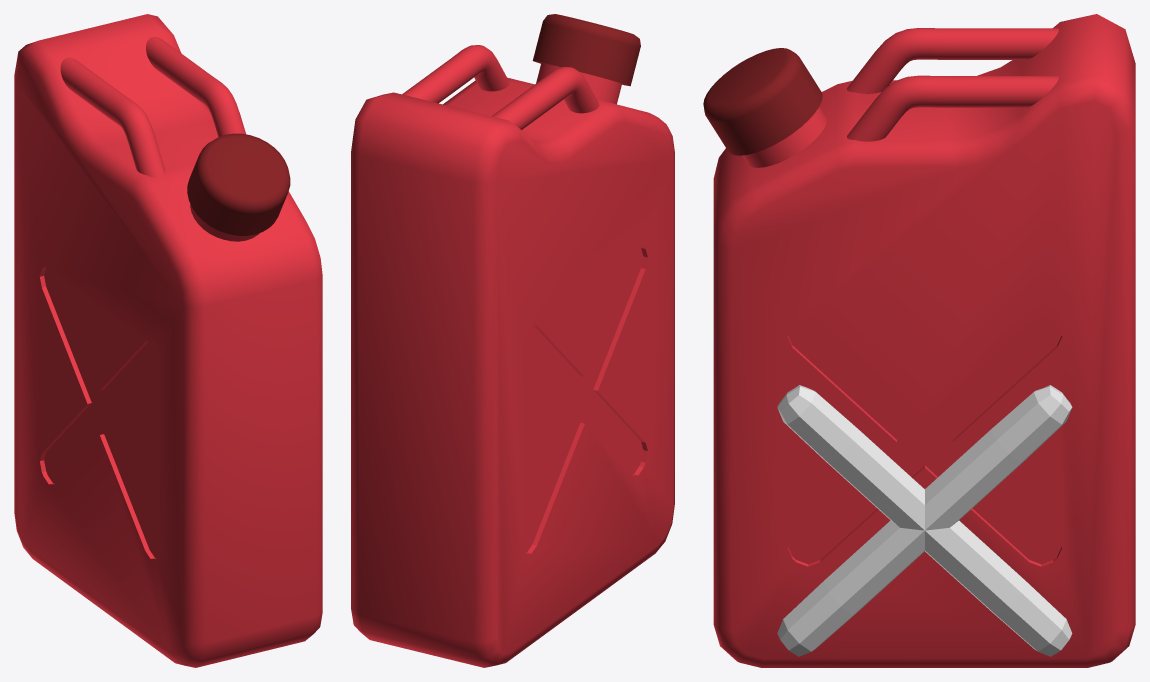
File: Jerry Can.fbx
3 views of the same model, side by side, from view 1: azimuth 30°, elevation 25°; view 2: azimuth 150°, elevation 25°; view 3: azimuth 270°, elevation 25° (orthographic). The views are drawn at different scales.
Visible parts, largest first — view 1: Cube, Cylinder; view 2: Cube, Cylinder; view 3: Cube, Cube.001, Cylinder.
Boxes of the visible parts, left/top/right/bottom form: Cube: left=14, top=14, right=322, bottom=667; Cylinder: left=187, top=133, right=290, bottom=241; Cube: left=351, top=45, right=674, bottom=667; Cylinder: left=532, top=14, right=640, bottom=104; Cube: left=713, top=14, right=1135, bottom=667; Cube.001: left=777, top=385, right=1072, bottom=656; Cylinder: left=703, top=48, right=826, bottom=167.
Size of the model in its own units: 64.87 by 198 by 131.
